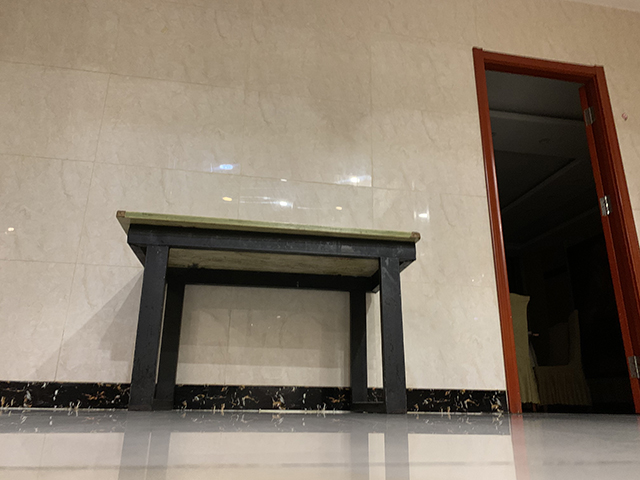table: (115, 208, 422, 416)
